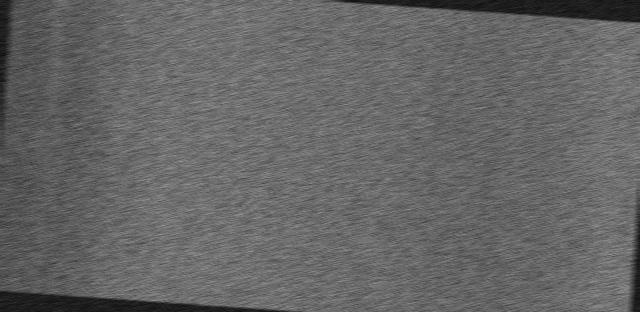silk_spot: (70, 54, 148, 172)
